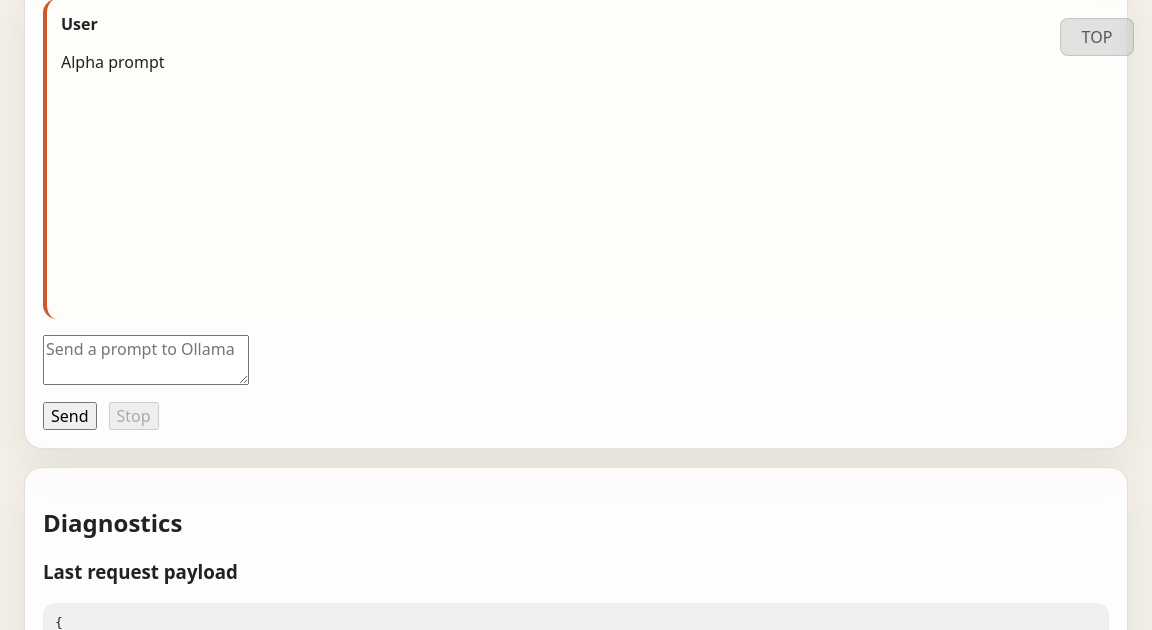
Test case: App › shows a visible error banner when send fails
(page scrolled)
Type "Hello from the test" into the text box labelled "prompt" at (146, 360), box [43,335,249,385]
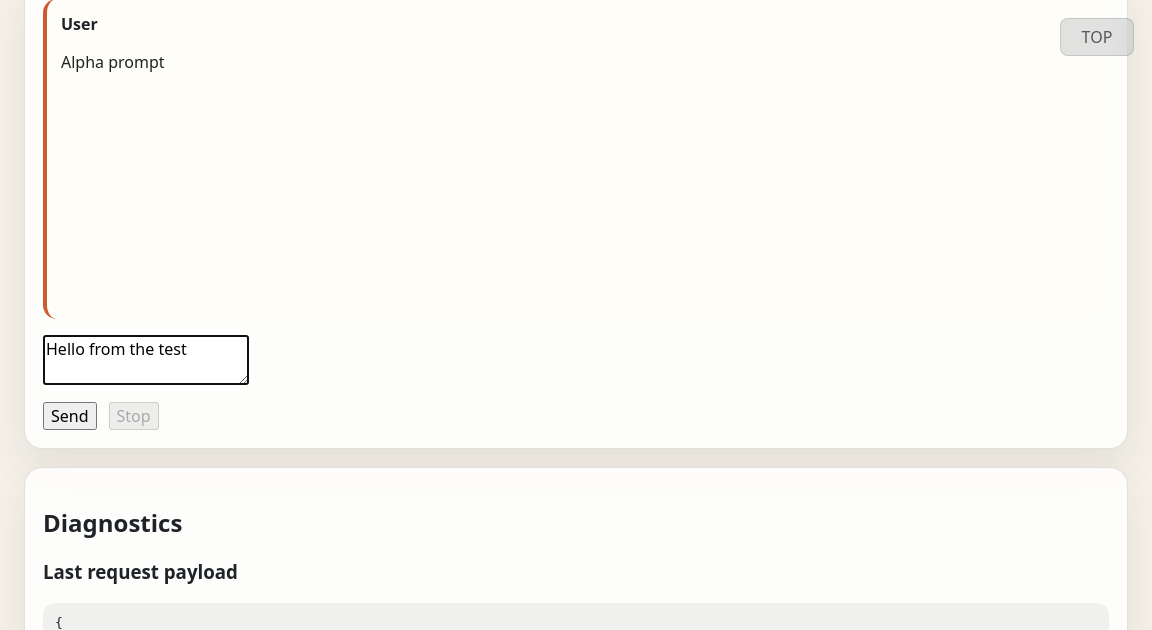
Click the button "Send" at (70, 416), box [43,402,96,430]
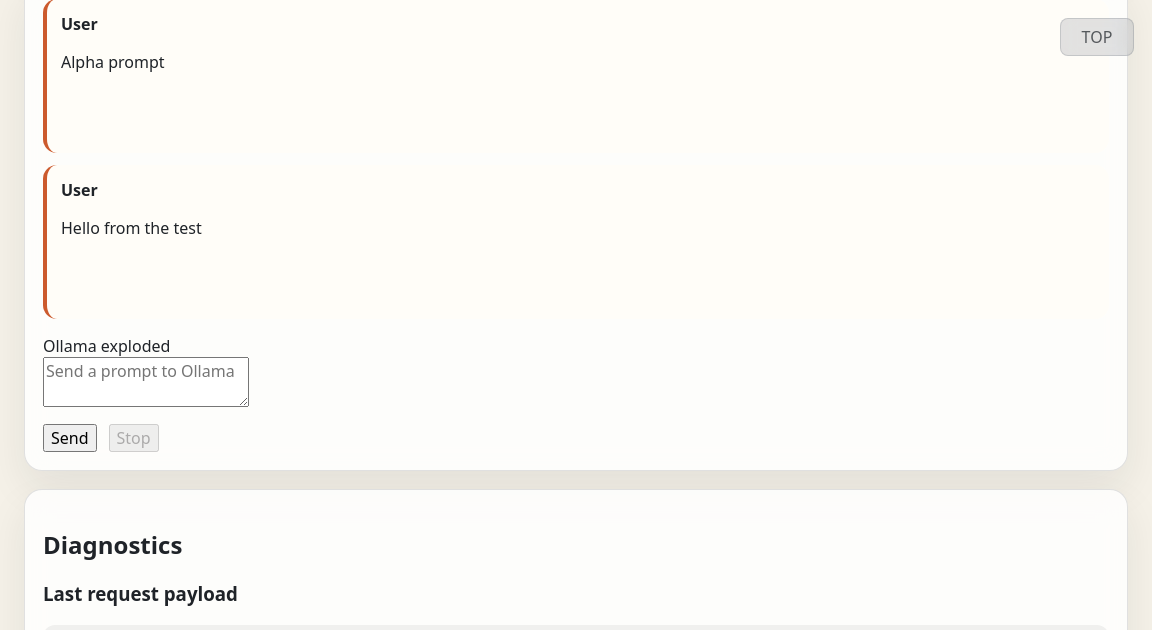
Check: the message reads "Ollama exploded", box [43,335,170,357]
